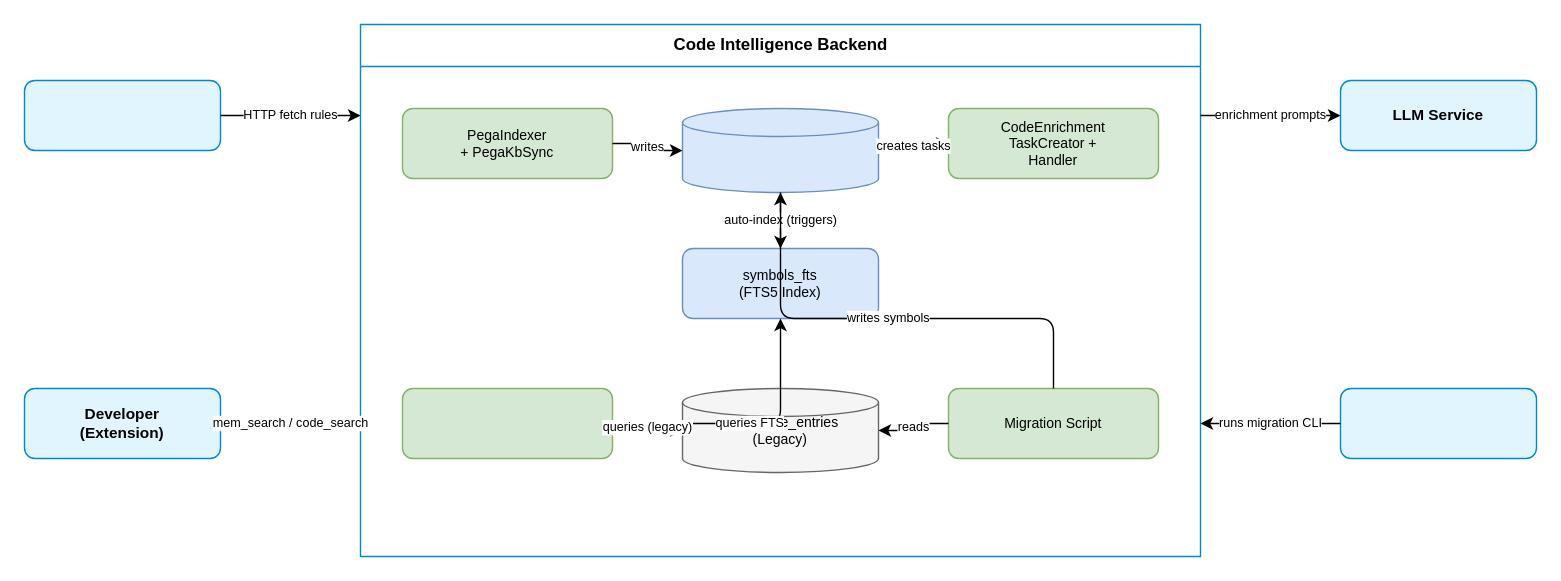
This 1561x581 diagram has some shape labels left out. The shapes that lost their labels are listed below. From the top down, each one's centre as x and y in pixels, then its label:
At [121,114]: "Pega Platform".
At [779,149]: "symbols table + files table".
At [506,422]: "MemoryEngine (Dual-Read Search)".
At [1437,422]: "Administrator".
